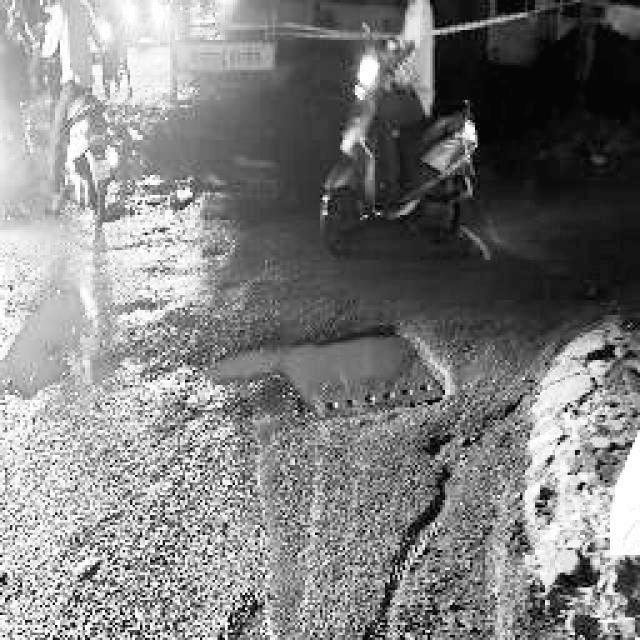Pothole: (197, 313, 457, 429), (0, 270, 175, 408)
